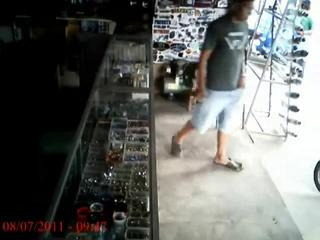Normal: (170, 0, 256, 172), (300, 0, 314, 32)
